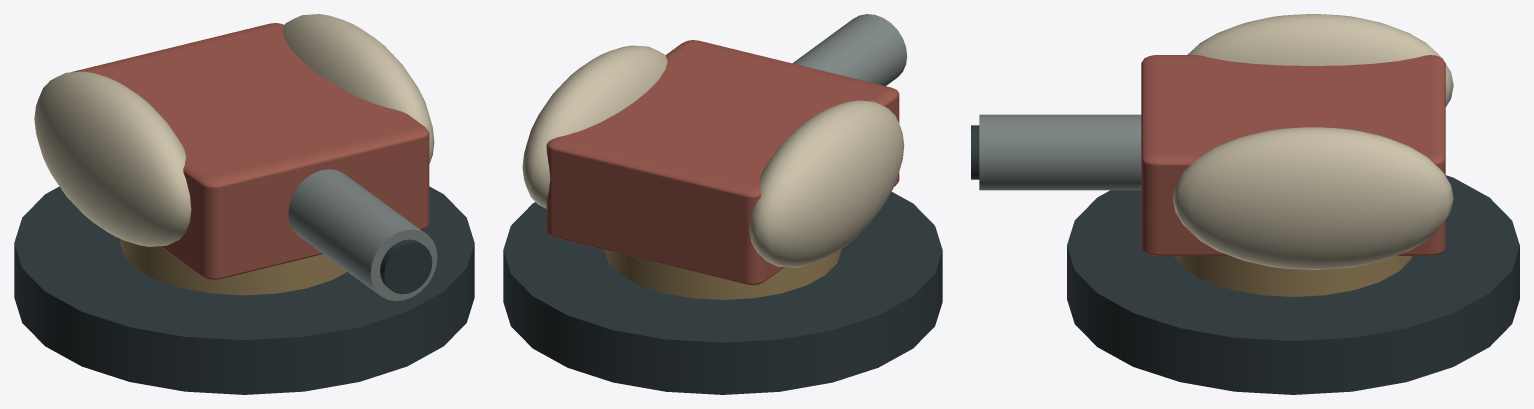
Rendered from warden-machine-lane-battery-v1.glb.
The picture shows the model from 3 angles, left to right: view 1: azimuth 30°, elevation 25°; view 2: azimuth 150°, elevation 25°; view 3: azimuth 270°, elevation 25°; orthographic projection. The views are drawn at different scales.
Visible parts, largest first — view 1: Dark metal / Cylinder (×2), Hull paint / Plate, Trim / Housing (×2), Steel / Cylinder, Brass / Cylinder; view 2: Dark metal / Cylinder, Hull paint / Plate, Trim / Housing (×2), Brass / Cylinder, Steel / Cylinder; view 3: Dark metal / Cylinder (×2), Trim / Housing (×2), Hull paint / Plate, Steel / Cylinder, Brass / Cylinder.
Boxes of the visible parts, x1,y1,x2,y2 form: Dark metal / Cylinder (×2): (14, 186, 474, 394); Hull paint / Plate: (71, 23, 429, 279); Trim / Housing (×2): (34, 14, 434, 246); Steel / Cylinder: (288, 169, 437, 301); Brass / Cylinder: (120, 239, 346, 295); Dark metal / Cylinder: (503, 192, 942, 394); Hull paint / Plate: (546, 40, 899, 285); Trim / Housing (×2): (522, 45, 904, 267); Brass / Cylinder: (604, 249, 841, 299); Steel / Cylinder: (792, 14, 907, 85); Dark metal / Cylinder (×2): (971, 125, 1519, 394); Trim / Housing (×2): (1172, 14, 1453, 269); Hull paint / Plate: (1141, 55, 1445, 255); Steel / Cylinder: (979, 114, 1141, 190); Brass / Cylinder: (1174, 256, 1412, 296).
Size of the model in its own units: 0.1993 by 0.1099 by 0.2415.
